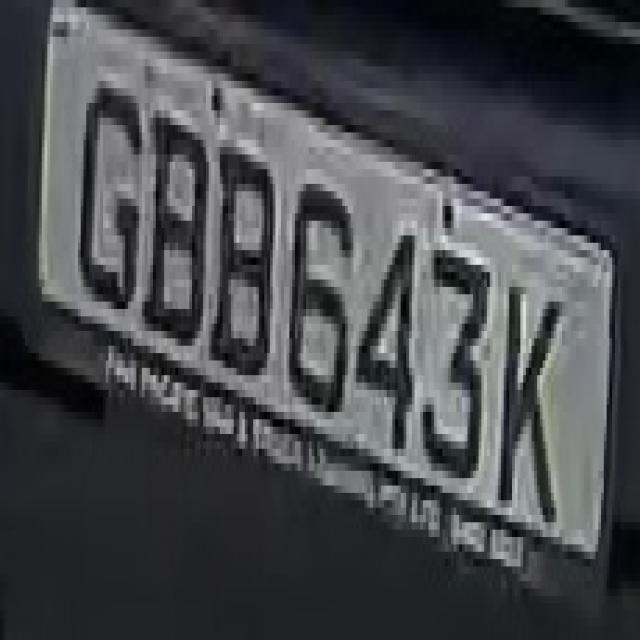3: (420, 191, 484, 471)
4: (362, 192, 423, 464)
6: (281, 169, 356, 427)
B: (212, 154, 276, 404), (150, 95, 206, 368)
G: (72, 44, 145, 331)
K: (498, 258, 568, 530)
